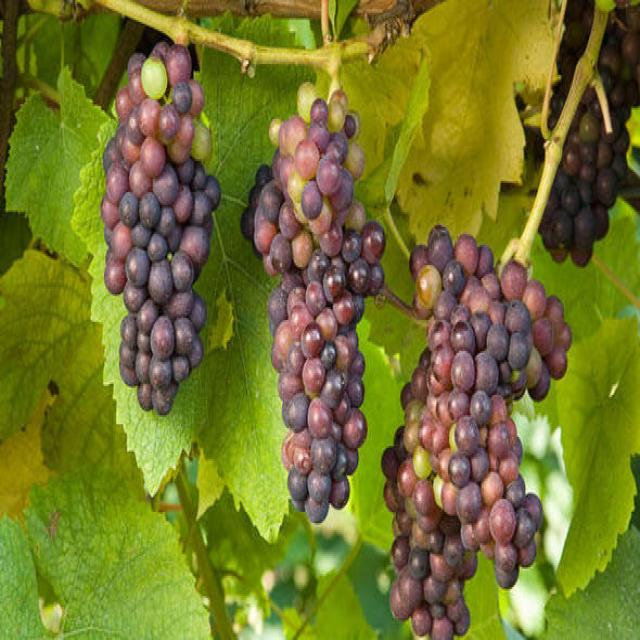grape: (381, 190, 576, 640), (235, 76, 394, 541), (100, 0, 222, 447)
